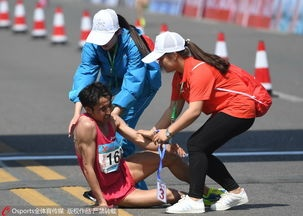falling: (68, 74, 233, 211)
